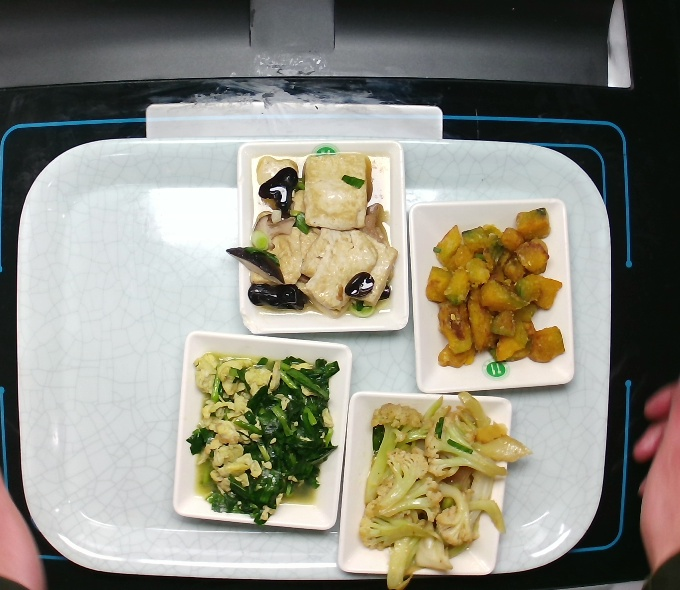wcq-DanHuangNanGua: (420, 203, 574, 382)
wcq-JiaChangDouFu: (229, 136, 408, 323)
wcq-JiuCaiJiDan: (187, 338, 347, 525)
wcq-QiuCai: (342, 392, 529, 584)
